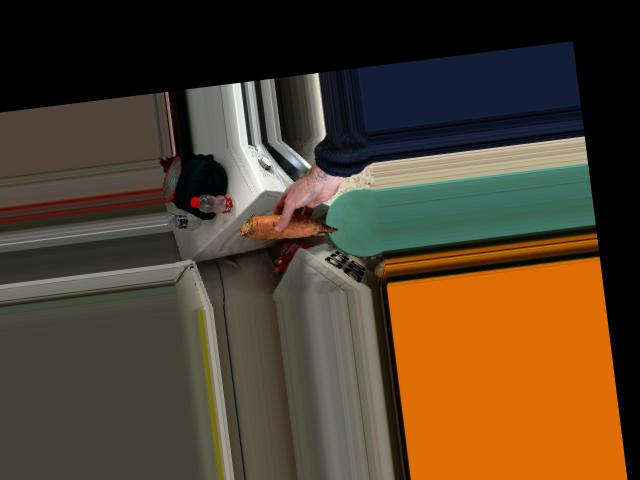sweet_potato: (234, 204, 332, 242)
